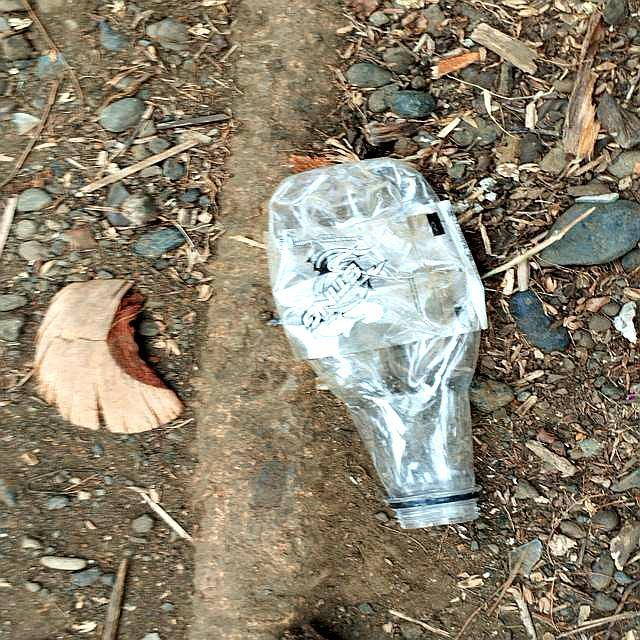Non-biodegradable: (265, 156, 491, 531)
